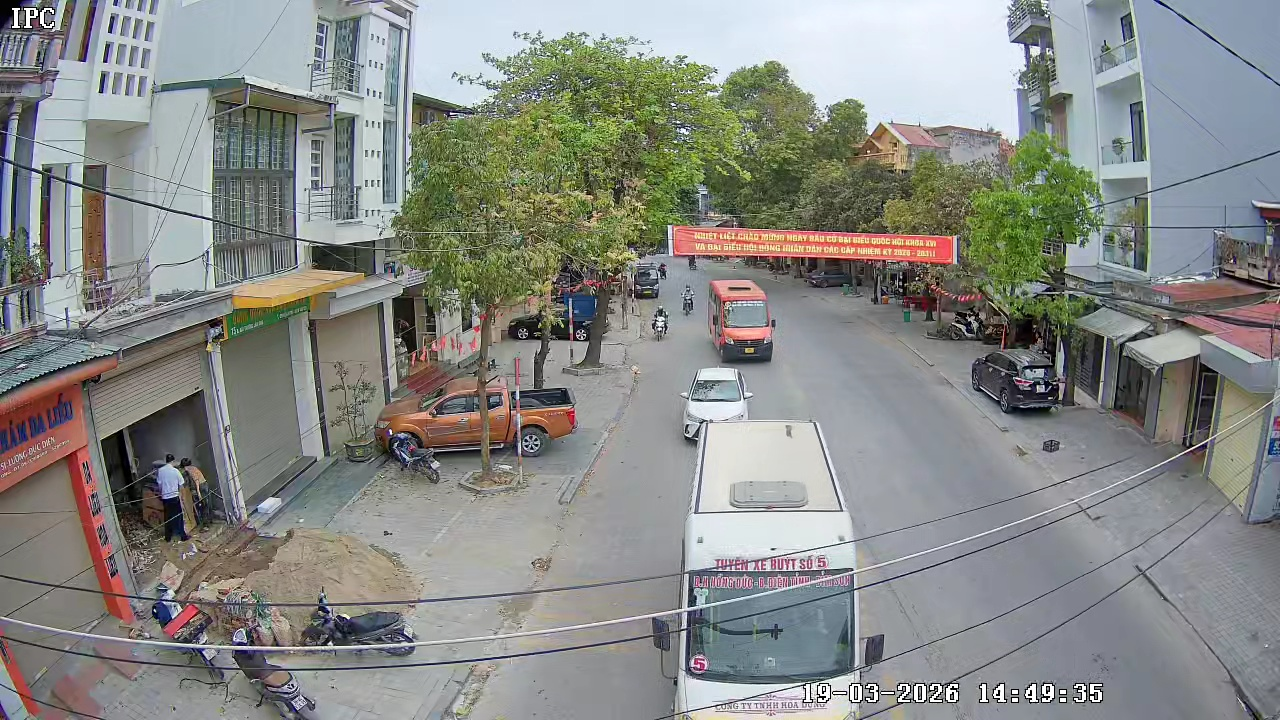bus: (645, 413, 890, 719), (713, 271, 775, 363)
car: (679, 364, 755, 444), (513, 383, 577, 455)
motorbike: (652, 303, 670, 339), (681, 283, 697, 316)
pedestrian: (153, 453, 188, 542)
